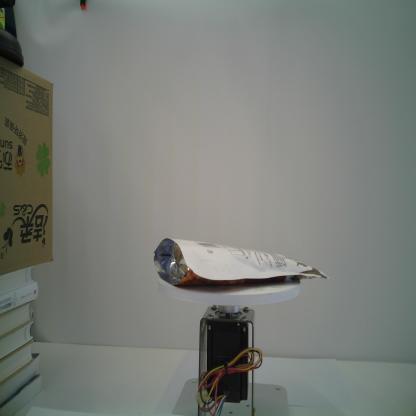Dried Fruit: (152, 238, 334, 286)
